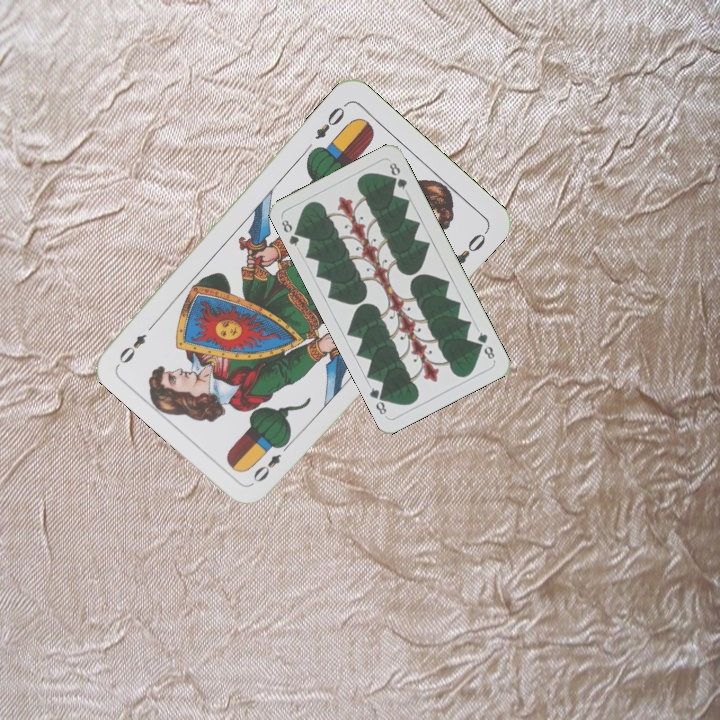EO: (248, 437, 294, 486), (311, 99, 350, 142)
G8: (277, 215, 305, 249), (473, 328, 497, 362)
